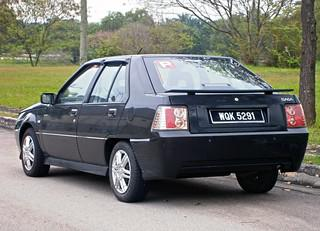fender-dent: (9, 103, 60, 132)
